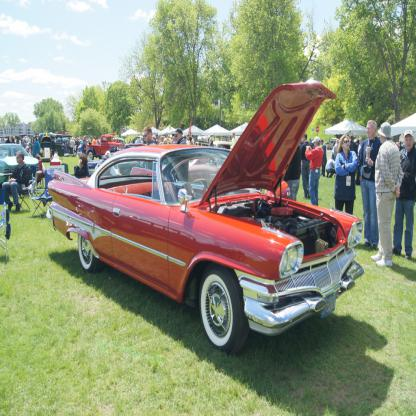Car: (0, 78, 365, 358)
